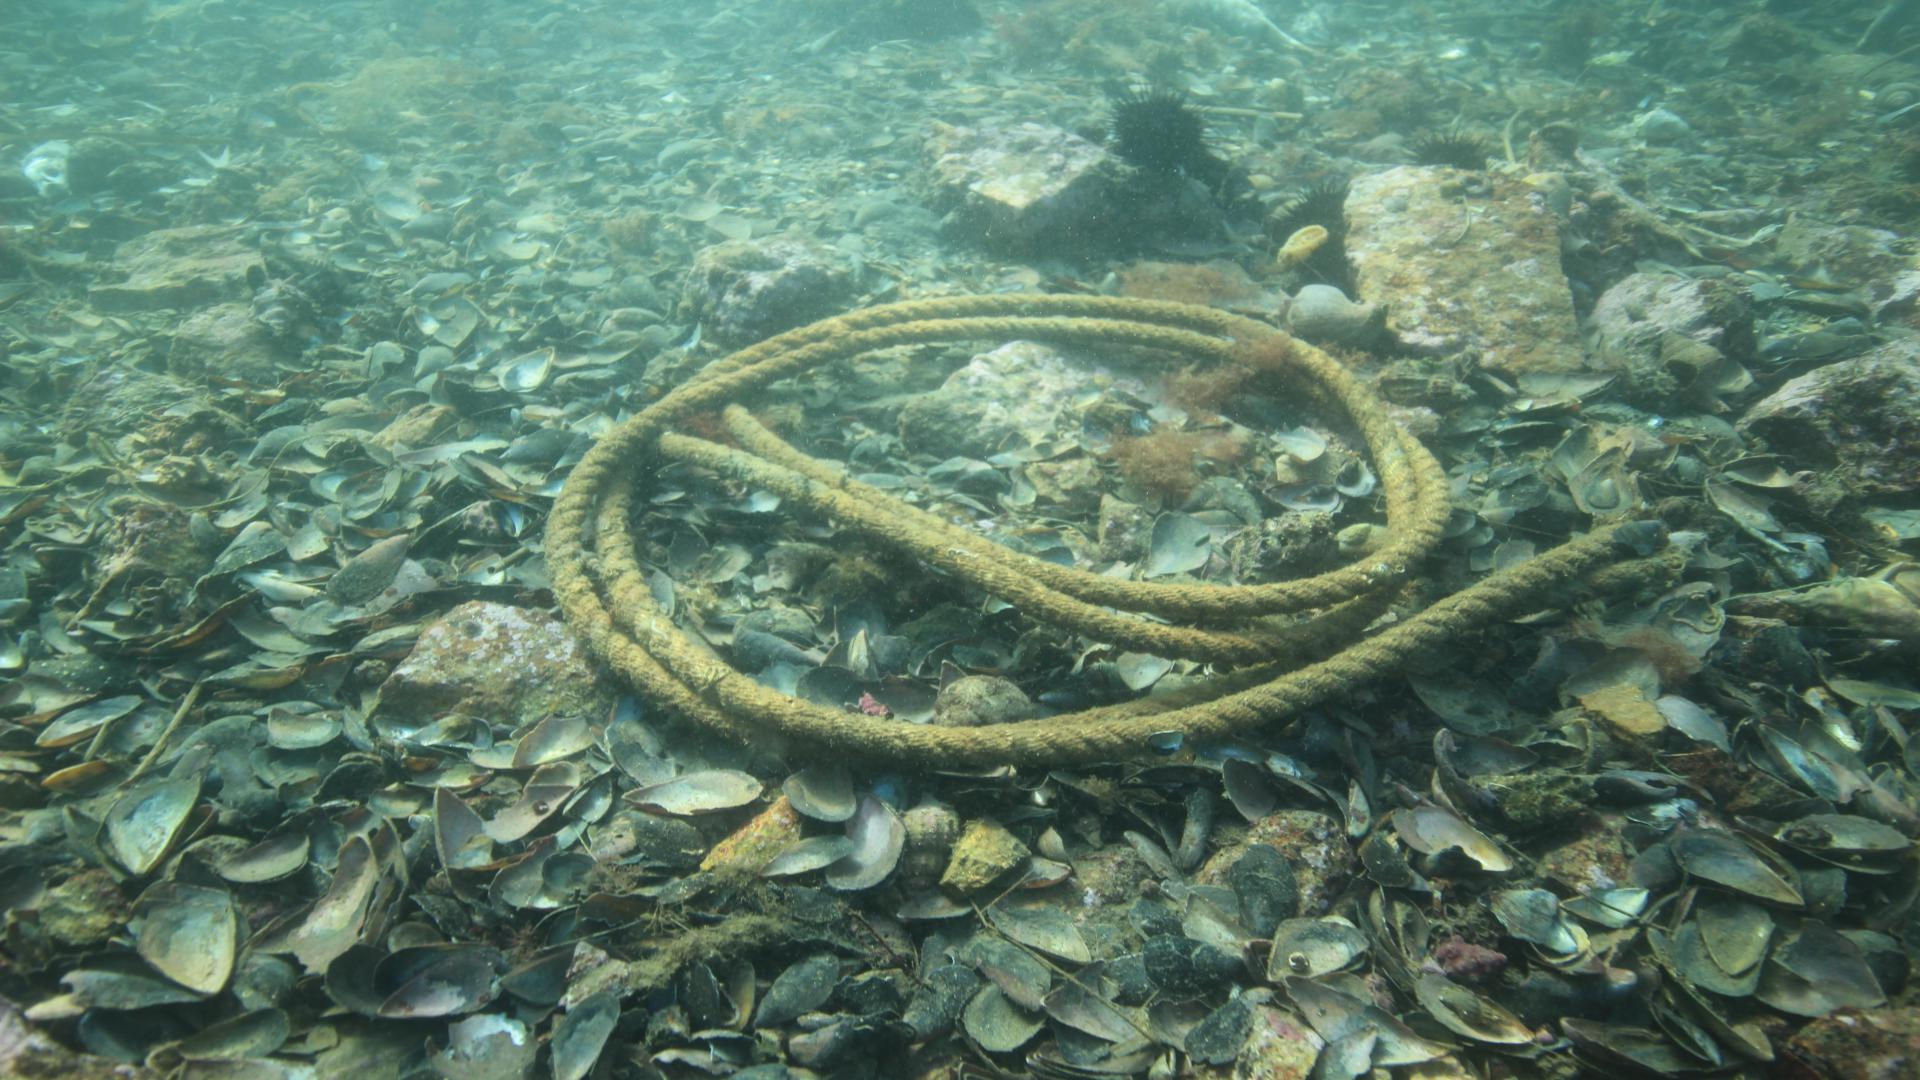bundle of ropes: (537, 289, 1604, 789)
